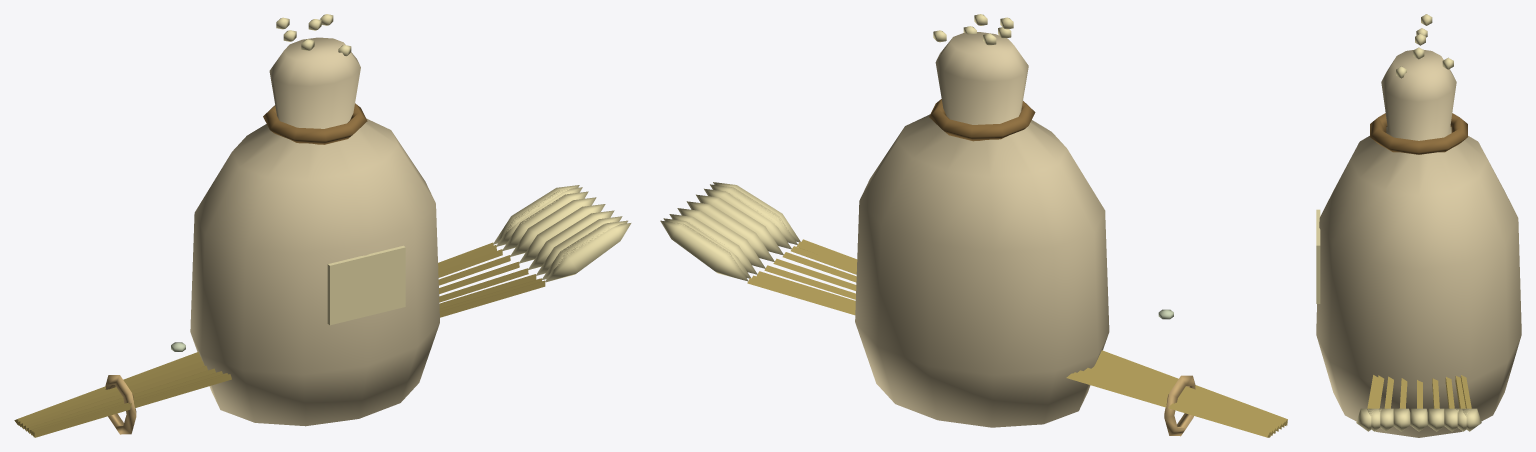
File: Grain_Rice.fbx
3 renders of one model, left to right at view 1: azimuth 30°, elevation 25°; view 2: azimuth 150°, elevation 25°; view 3: azimuth 270°, elevation 25°, orthographic. The views are drawn at different scales.
Parts seen in each view (by area): view 1: Grain_Rice__Stack, Grain_Rice; view 2: Grain_Rice__Stack, Grain_Rice; view 3: Grain_Rice__Stack, Grain_Rice.
Boxes of the visible parts, <box> form: Grain_Rice__Stack: <box>190,14,439,426</box>; Grain_Rice: <box>14,185,631,437</box>; Grain_Rice__Stack: <box>855,14,1109,427</box>; Grain_Rice: <box>660,182,1287,437</box>; Grain_Rice__Stack: <box>1316,14,1521,437</box>; Grain_Rice: <box>1356,375,1481,431</box>.
Size of the model in its own units: 0.3062 by 0.188 by 0.096.
